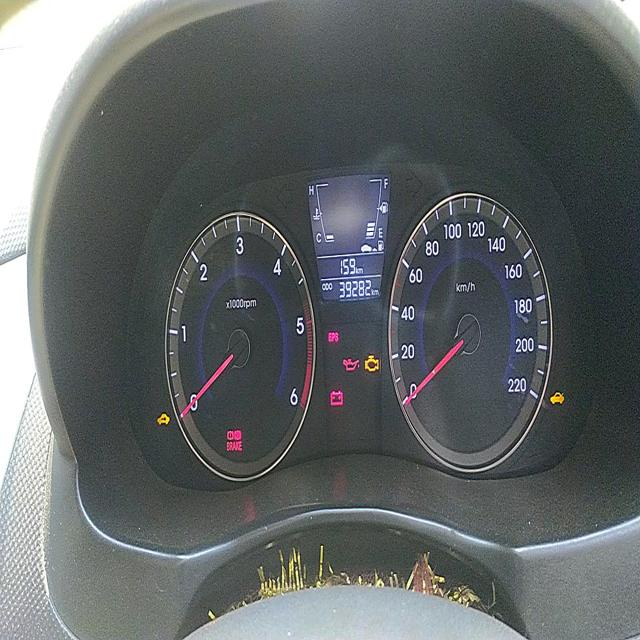odometer: (337, 277, 371, 298)
